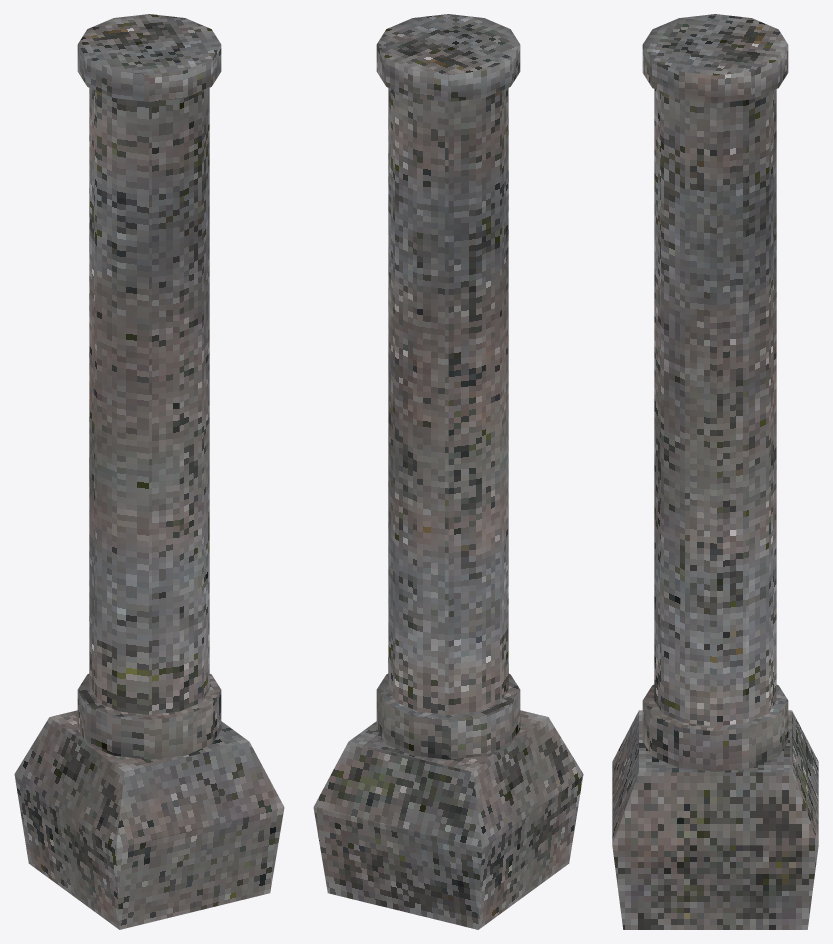
The model's file is Column_2.gltf.
The picture shows the model from 3 angles, left to right: view 1: azimuth 30°, elevation 25°; view 2: azimuth 150°, elevation 25°; view 3: azimuth 270°, elevation 25°; orthographic projection.
Visible parts, largest first — view 1: Column_2; view 2: Column_2; view 3: Column_2.
Part boxes in pixels (x1=…): Column_2: x1=14, y1=14, x2=284, y2=929; Column_2: x1=313, y1=14, x2=583, y2=929; Column_2: x1=612, y1=14, x2=818, y2=929.
Size of the model in its own units: 1.64 by 7.76 by 1.71.
1 material, 1 textured.
